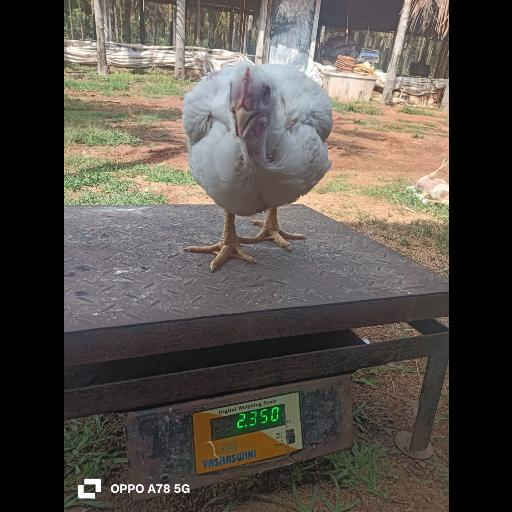chick: (182, 60, 332, 269)
